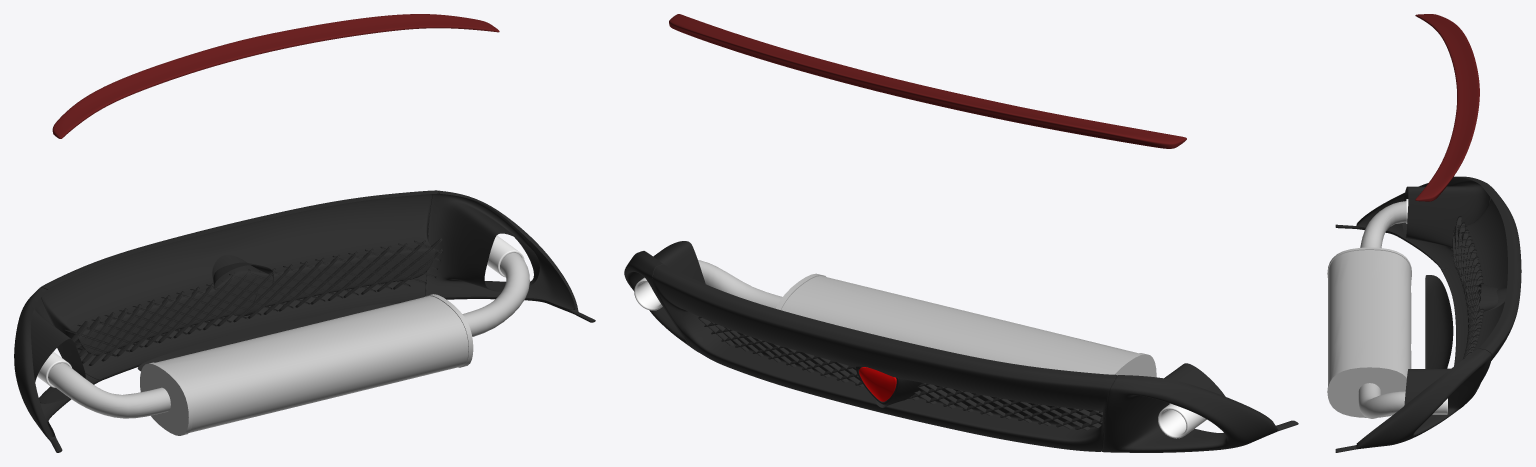
The model's file is RearSide.fbx.
The picture shows the model from 3 angles, left to right: view 1: azimuth 30°, elevation 25°; view 2: azimuth 150°, elevation 25°; view 3: azimuth 270°, elevation 25°; orthographic projection. The views are drawn at different scales.
Parts seen in each view (by area): view 1: Back bumper, Tailpipe, Spoiler; view 2: Back bumper, Tailpipe, Spoiler; view 3: Back bumper, Tailpipe, Spoiler.
Part boxes in pixels (box(x1,y1,x2,y2)): Back bumper: box(14, 190, 595, 452); Tailpipe: box(37, 235, 529, 435); Spoiler: box(52, 14, 499, 138); Back bumper: box(624, 241, 1298, 452); Tailpipe: box(634, 260, 1206, 438); Spoiler: box(669, 14, 1186, 148); Back bumper: box(1335, 176, 1521, 452); Tailpipe: box(1327, 199, 1447, 418); Spoiler: box(1415, 14, 1479, 201).
Size of the model in its own units: 2062 by 1125 by 744.
